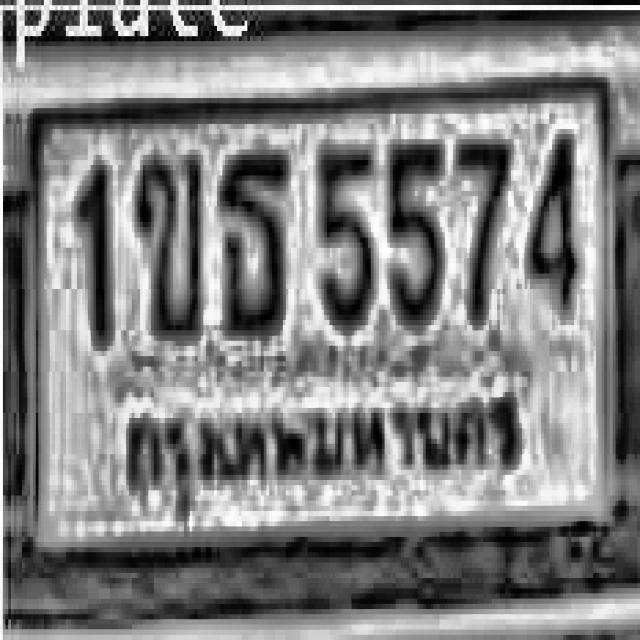license-plate: (29, 87, 624, 584)
